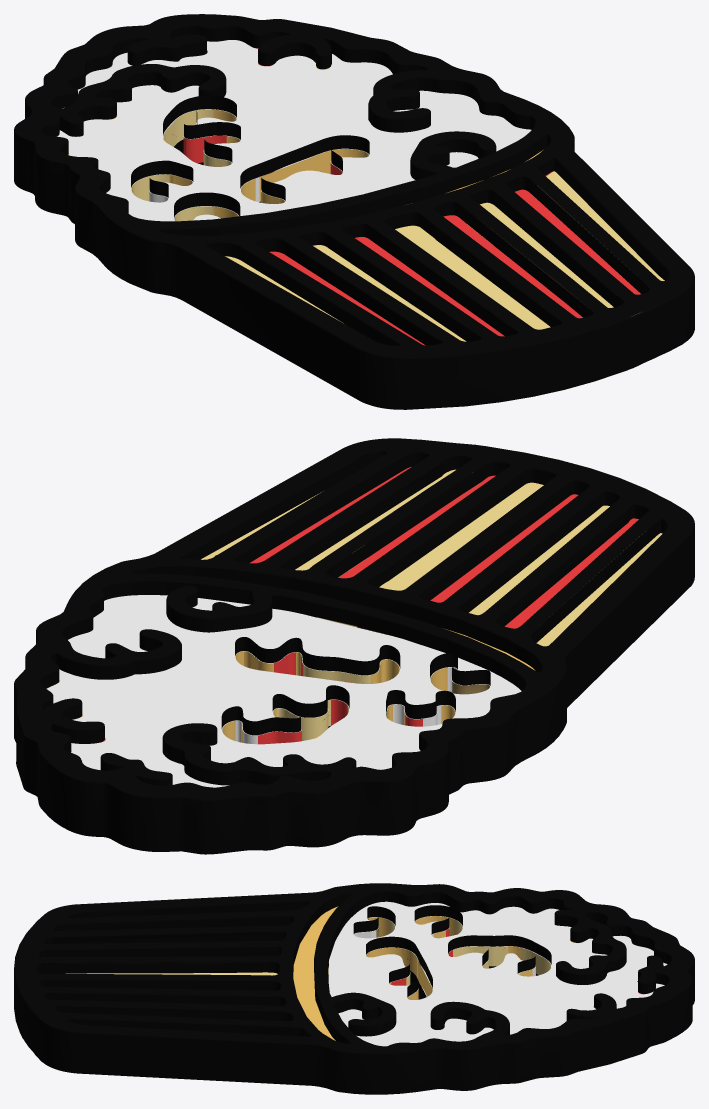
The model's file is Popcorn.glb.
3 renders of one model, top to bottom at view 1: azimuth 30°, elevation 25°; view 2: azimuth 150°, elevation 25°; view 3: azimuth 270°, elevation 25°, orthographic. The views are drawn at different scales.
Parts seen in each view (by area): view 1: Curve.122; view 2: Curve.122; view 3: Curve.122.
Part boxes in pixels (x1=…): Curve.122: x1=14, y1=14, x2=694, y2=409; Curve.122: x1=14, y1=438, x2=694, y2=854; Curve.122: x1=14, y1=883, x2=694, y2=1094.
Size of the model in its own units: 1.9 by 0.2138 by 3.2.
Materials: 1 (1 with a texture image).
